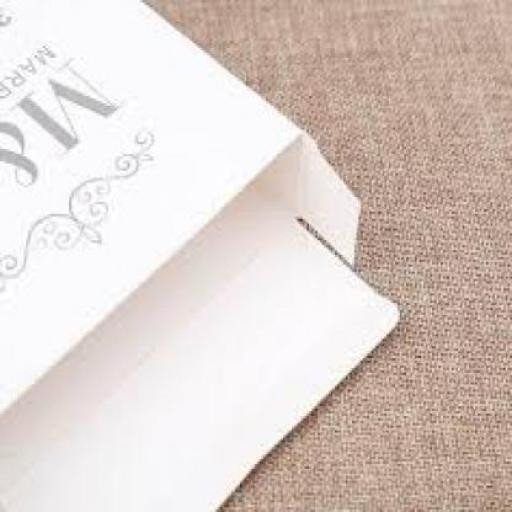cardboard: (0, 0, 395, 510)
